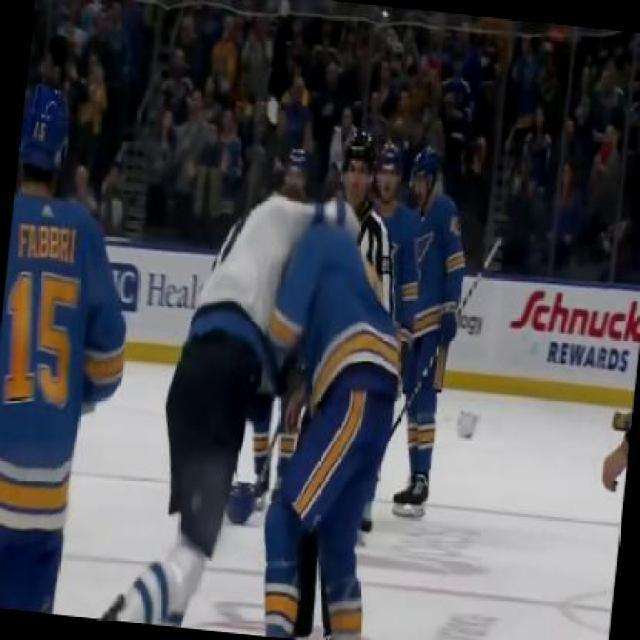fight: (148, 170, 420, 602)
non-fight: (0, 74, 155, 588)
